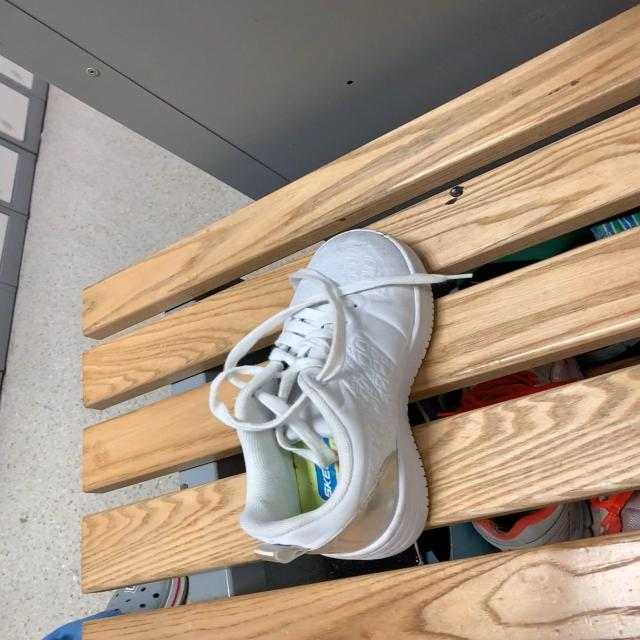shoe: (208, 230, 475, 565)
